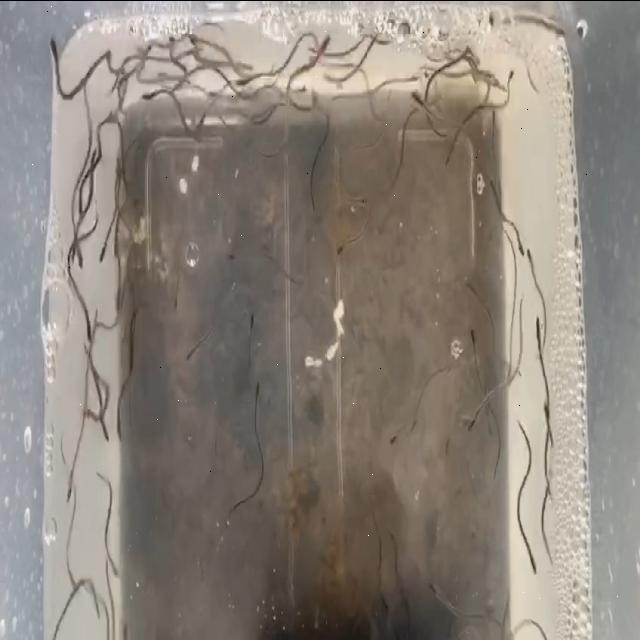inactive_glass_eel: (61, 464, 78, 512), (102, 548, 124, 584), (438, 134, 456, 174), (222, 246, 242, 278), (525, 542, 541, 578), (184, 328, 198, 368), (72, 234, 84, 280), (460, 407, 480, 434), (504, 64, 522, 94), (402, 412, 419, 442), (426, 566, 440, 602), (171, 284, 183, 326), (44, 34, 60, 64), (97, 413, 113, 443), (116, 408, 128, 448), (318, 36, 332, 68), (386, 416, 402, 444), (464, 322, 478, 353), (90, 583, 102, 619), (386, 518, 402, 544), (512, 226, 524, 259), (410, 88, 422, 121), (247, 304, 259, 336), (335, 242, 349, 268), (533, 312, 543, 348), (252, 373, 262, 409), (142, 88, 158, 106), (356, 192, 370, 212), (100, 246, 110, 270), (527, 240, 536, 264), (88, 149, 95, 173), (172, 32, 180, 50)
